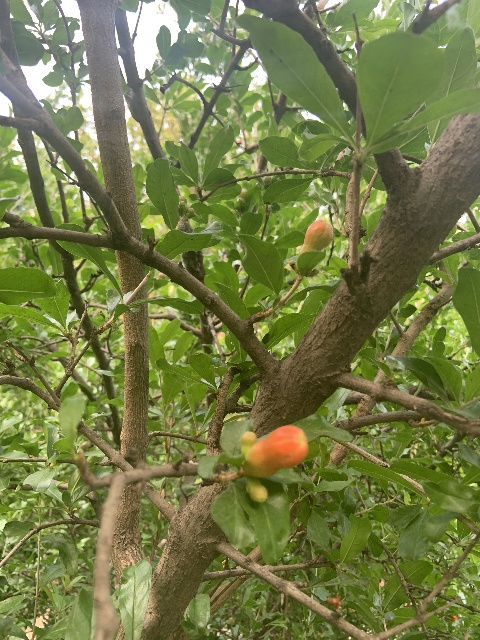bud: (243, 425, 308, 476), (298, 219, 333, 256), (247, 478, 267, 503), (240, 430, 256, 457)
